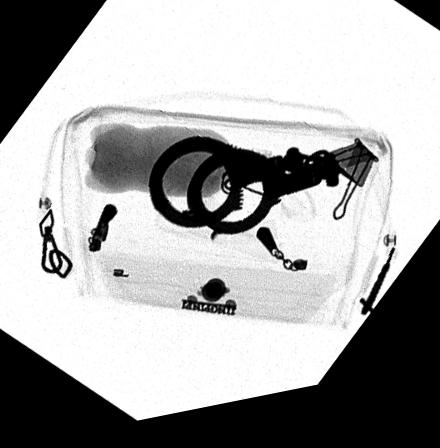HandCuffs: (148, 142, 340, 248)
